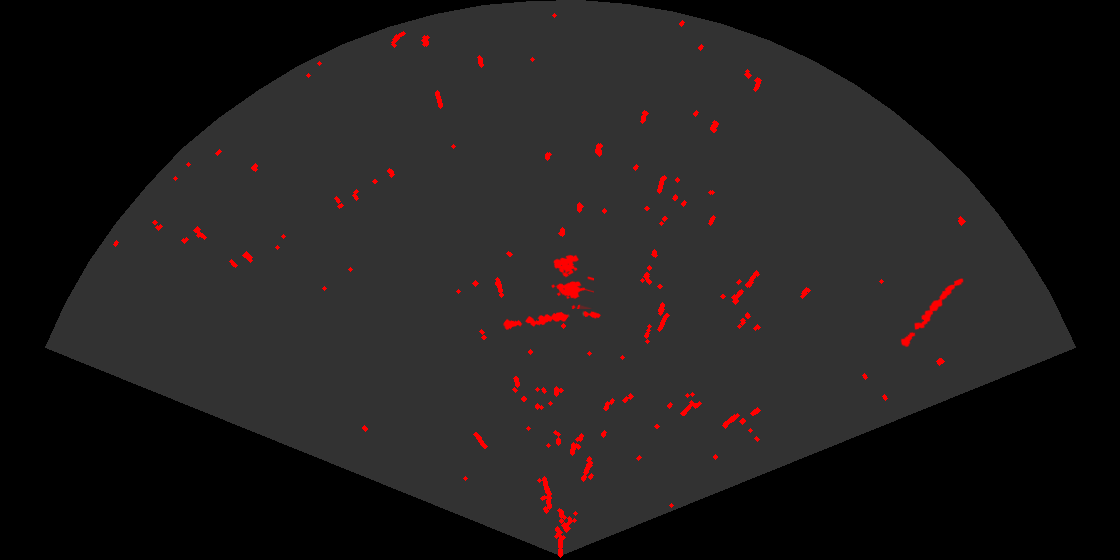cage: (550, 253, 594, 309)
chain: (899, 277, 965, 349), (501, 310, 602, 331)
